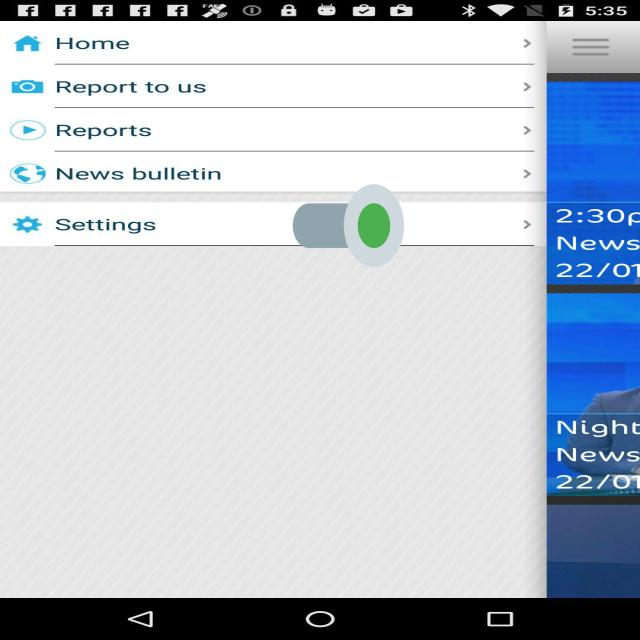social proof: (293, 149, 404, 302)
